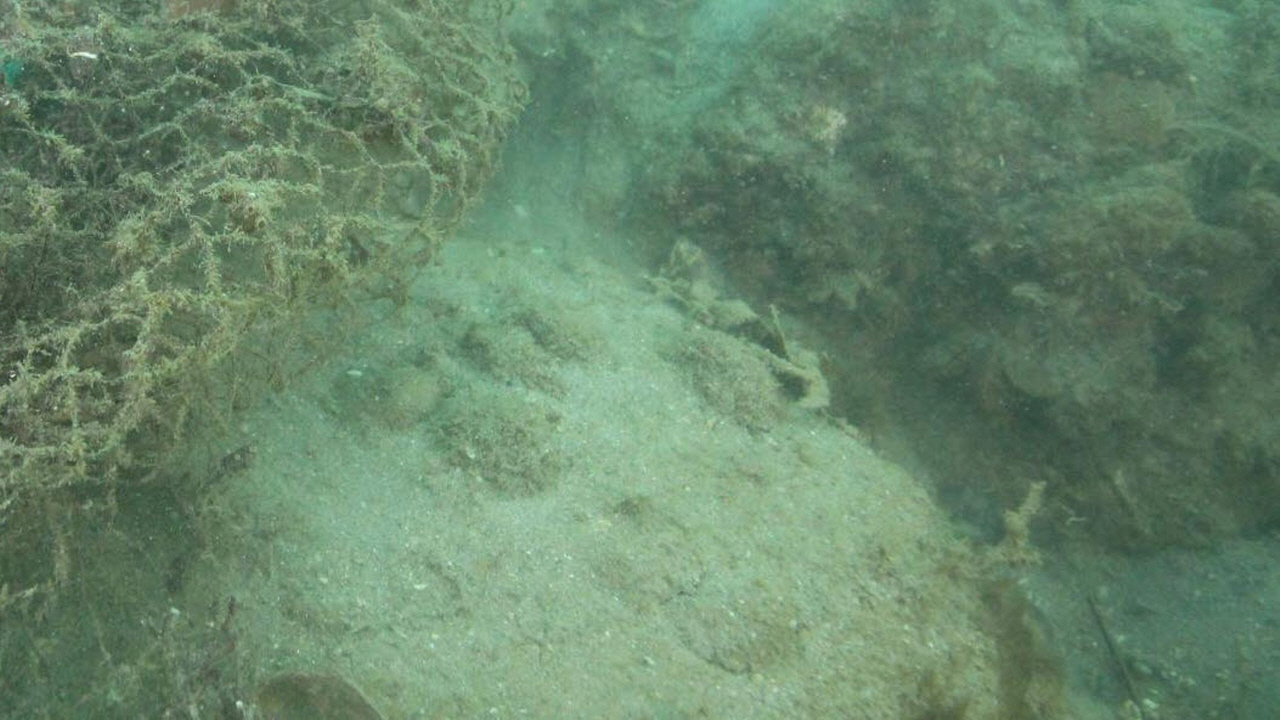fish net: (1, 0, 530, 495)
